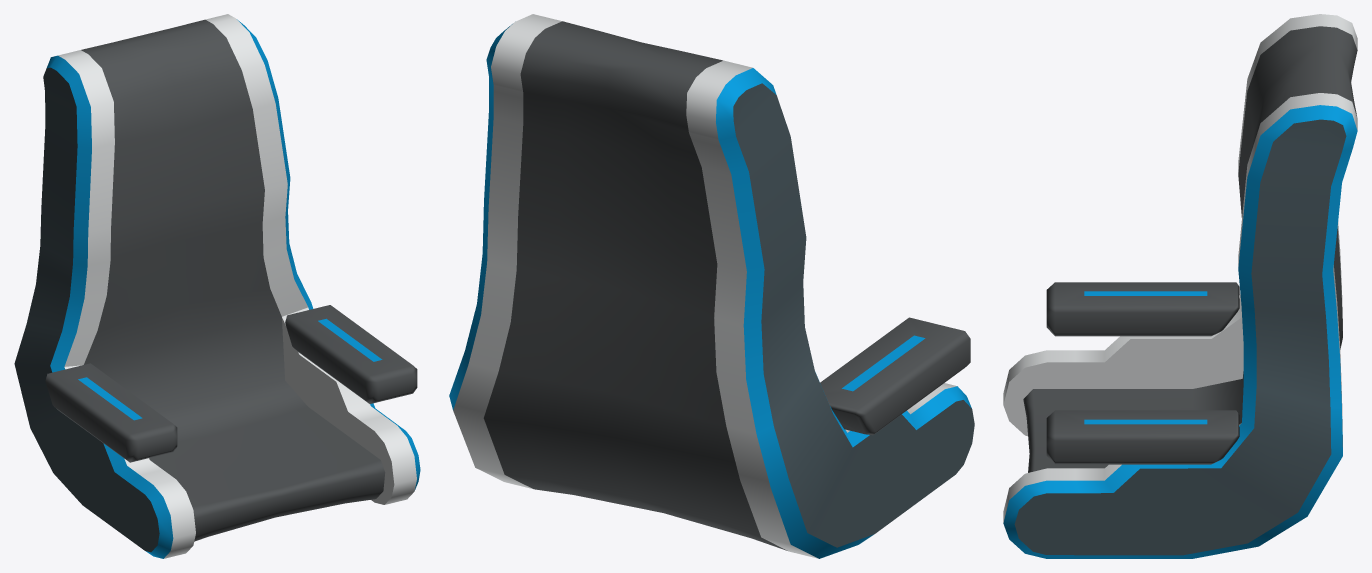
File: Armchair_001.fbx
3 renders of one model, left to right at view 1: azimuth 30°, elevation 25°; view 2: azimuth 150°, elevation 25°; view 3: azimuth 270°, elevation 25°, orthographic. The views are drawn at different scales.
Parts seen in each view (by area): view 1: Armchair_001; view 2: Armchair_001; view 3: Armchair_001.
Boxes of the visible parts, x1=… form: Armchair_001: x1=14, y1=14, x2=420, y2=558; Armchair_001: x1=449, y1=14, x2=974, y2=558; Armchair_001: x1=1003, y1=14, x2=1357, y2=558.
Bounding box in the file's own units: 77.05 × 74.04 × 100.
